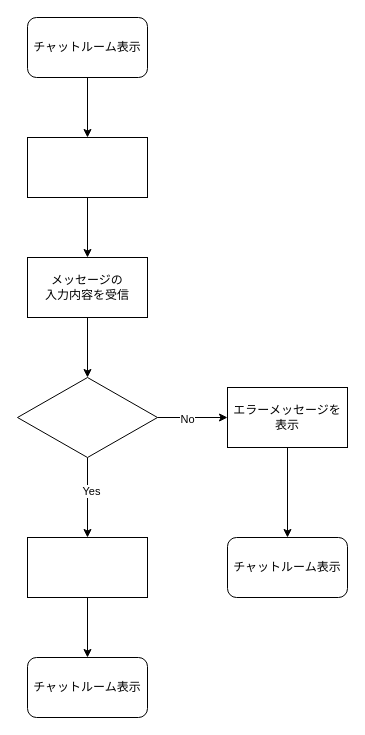
Image size: 365x735. Some labels were removed from this diagram. The shapes that lost their labels are listed below. From the top down, each one's centre as x and y in pixels, then its label:
the point at 87,167: メッセージ 送信ボタン押下
the point at 87,417: 入力値は正しいか
the point at 87,567: メッセージを更新
